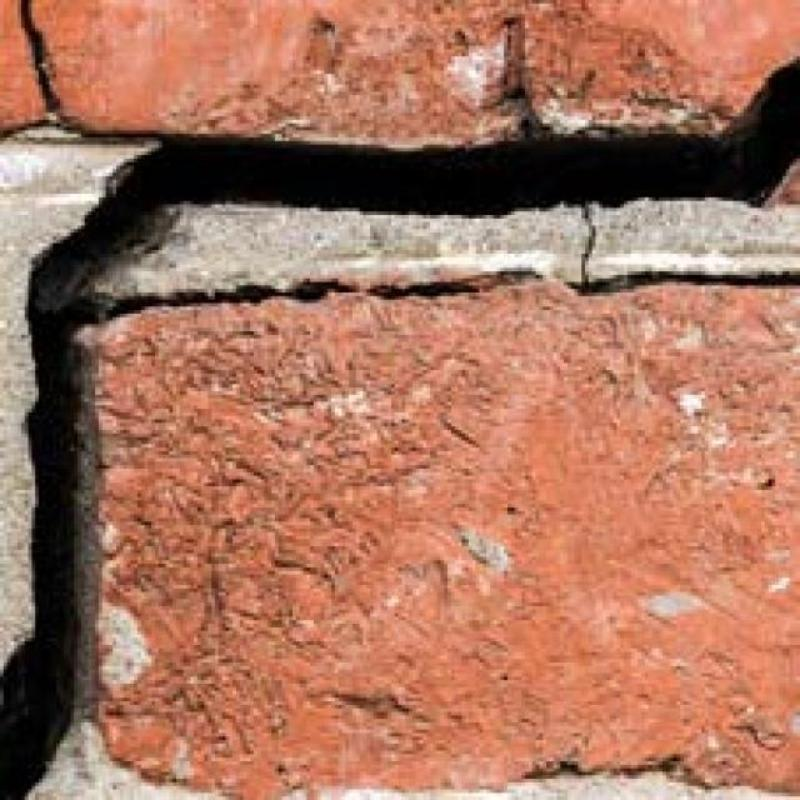crack: (0, 60, 800, 799), (20, 0, 60, 113), (364, 278, 477, 298), (475, 264, 539, 279)
